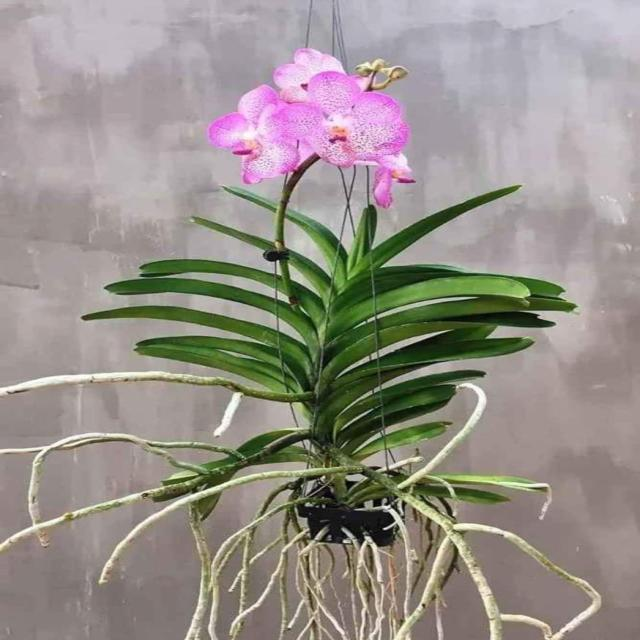flower: (282, 70, 410, 206), (208, 86, 301, 184)
leaf: (358, 188, 517, 274), (339, 273, 531, 336), (100, 484, 228, 577), (192, 218, 333, 296), (3, 486, 166, 546), (94, 306, 294, 354), (339, 337, 514, 383), (336, 372, 460, 432), (141, 261, 300, 301), (136, 335, 278, 366), (288, 212, 346, 265), (355, 423, 444, 454)
plant: (6, 38, 640, 640)
pot: (281, 481, 428, 564)
root: (395, 384, 600, 640), (390, 501, 599, 640), (98, 468, 342, 585), (0, 432, 193, 546), (298, 502, 404, 640), (140, 468, 341, 534), (99, 490, 209, 584), (0, 488, 160, 552), (0, 371, 306, 404), (207, 506, 281, 640), (228, 526, 305, 638), (229, 530, 307, 640), (412, 385, 486, 479), (393, 562, 450, 639), (220, 478, 256, 490), (259, 471, 279, 478)
